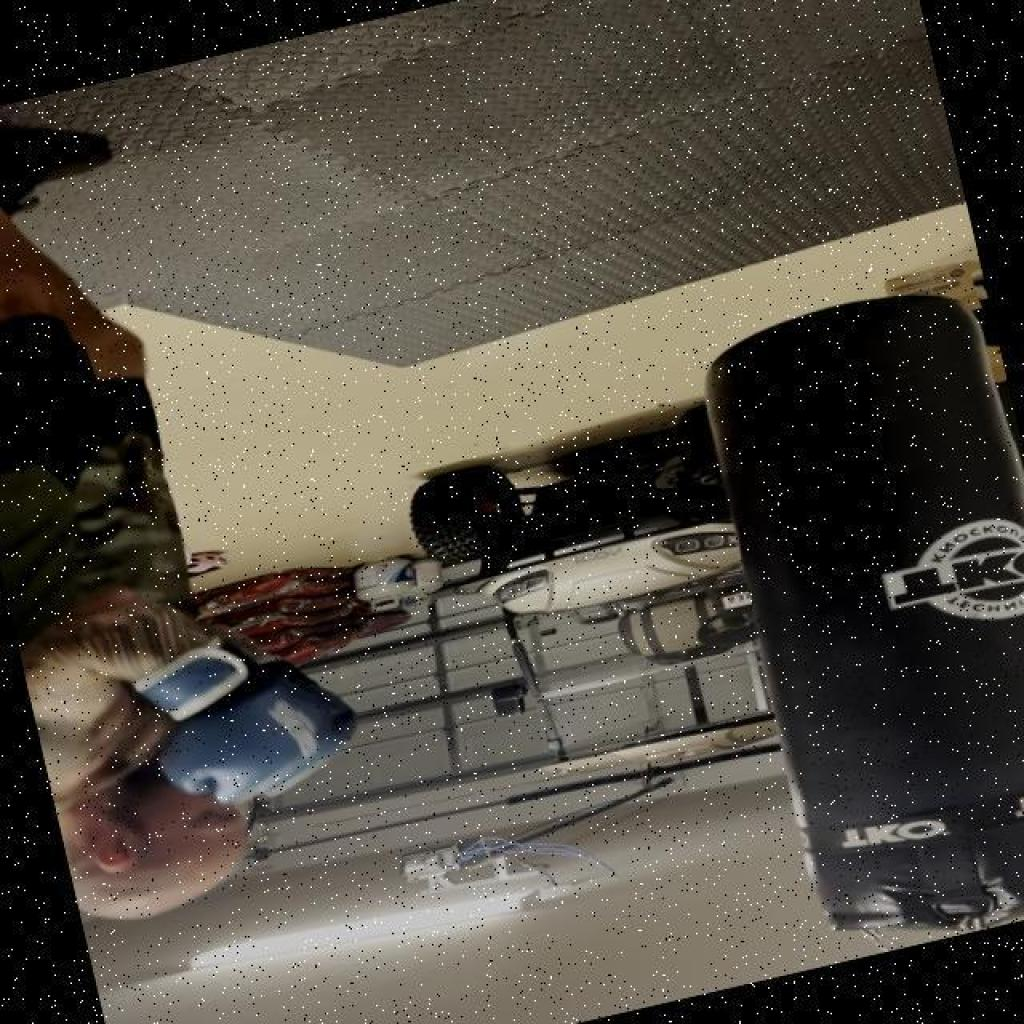bag: (73, 755, 276, 920)
